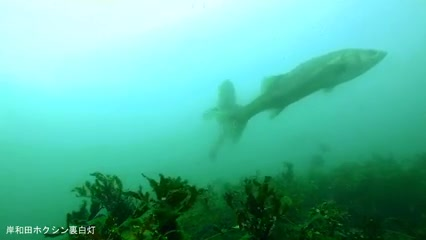suzuki: (218, 43, 390, 148)
